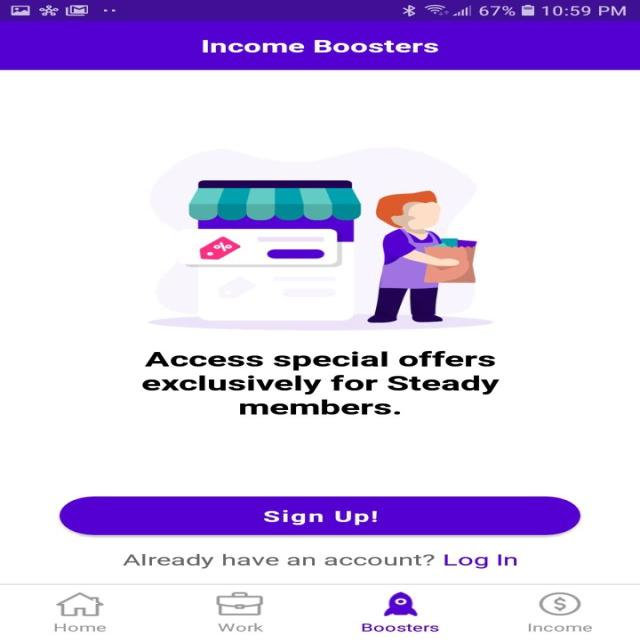Icon: (55, 591, 104, 616), (215, 592, 263, 616), (538, 592, 580, 616)
Image: (146, 147, 494, 330), (382, 591, 418, 616)
Text: (142, 350, 499, 414), (121, 553, 516, 568), (200, 40, 438, 53), (360, 622, 438, 632), (528, 622, 592, 632), (53, 622, 106, 632), (217, 622, 263, 632)
TextButton: (59, 496, 580, 535)
